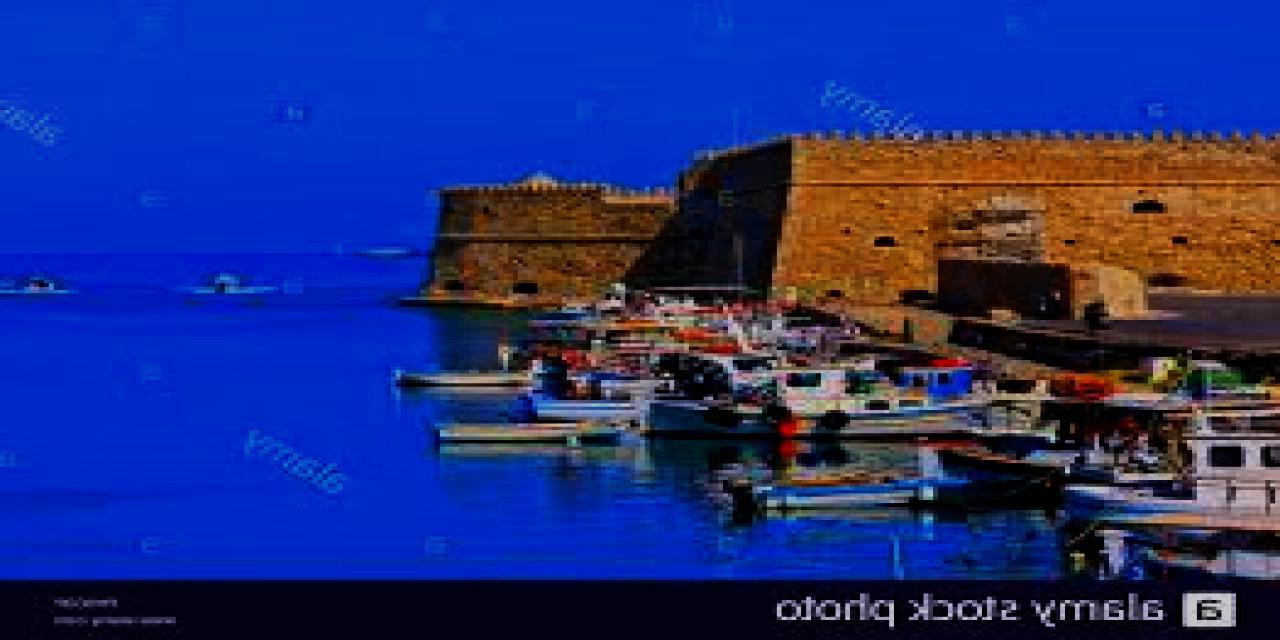Kules: (403, 131, 1280, 310)
